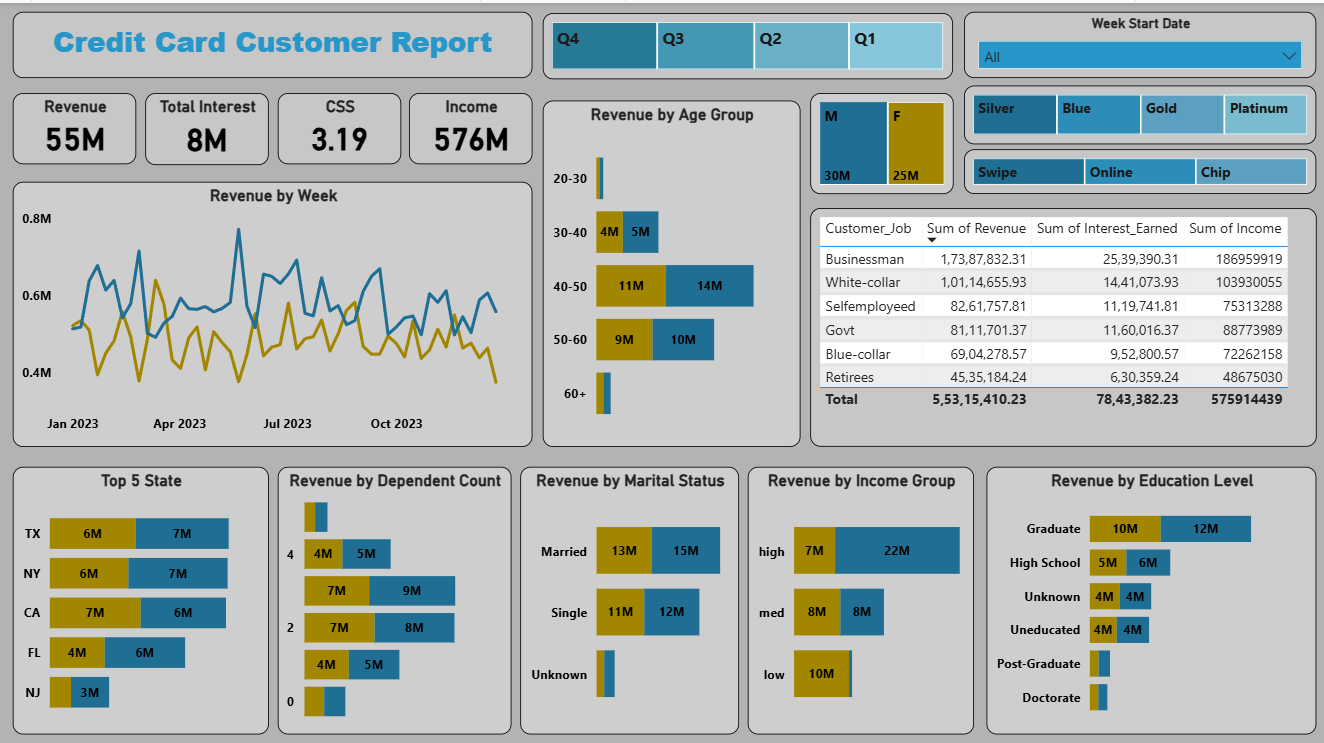

This screenshot's page, from the dashboard's own definition file:
{"tool":"powerbi","page":{"name":"CreditCard Customer","canvas":[1280,720],"ordinal":2},"visuals":[{"type":"textbox","box":[13.3,8.4,501.9,63.9],"z":0},{"type":"barChart","title":"Revenue by Income Group","fields":{"Y":["Sum(credit_card.Revenue)"],"Category":["customer.IncomeGroup"],"Series":["customer.Gender"]},"box":[722.7,447.6,218.4,258.2],"z":1000},{"type":"tableEx","fields":{"Values":["customer.Customer_Job","Sum(credit_card.Revenue)","Sum(credit_card.Interest_Earned)","Sum(customer.Income)"]},"box":[783,197.9,488.6,230.4],"z":2000},{"type":"card","title":"Revenue","fields":{"Values":["Sum(credit_card.Revenue)"]},"box":[13.3,86.9,119.4,68.8],"z":3000},{"type":"card","title":"Total Interest","fields":{"Values":["Sum(credit_card.Interest_Earned)"]},"box":[141.2,86.9,119.4,70],"z":4000},{"type":"card","title":"Income","fields":{"Values":["Sum(customer.Income)"]},"box":[395.7,86.9,119.4,68.8],"z":5000},{"type":"card","title":"CSS","fields":{"Values":["Avg(customer.Cust_Satisfaction_Score)"]},"box":[269,86.9,119.4,68.8],"z":6000},{"type":"slicer","title":"Week Start Date","fields":{"Values":["credit_card.Week_Start_Date"]},"box":[931.4,8.4,340.2,63.9],"z":7000},{"type":"treemap","fields":{"Group":["credit_card.Qtr"],"Values":["Avg(credit_card.Client_Num)"]},"box":[524.8,9.7,395.7,63.9],"z":8000},{"type":"treemap","fields":{"Values":["Avg(credit_card.Client_Num)"],"Group":["credit_card.Use Chip"]},"box":[931.4,141.2,340.2,43.4],"z":9000},{"type":"treemap","fields":{"Values":["Avg(credit_card.Client_Num)"],"Group":["credit_card.Card_Category"]},"box":[931.4,79.6,340.2,56.7],"z":10000},{"type":"lineChart","title":"Revenue by Week","fields":{"Y":["Sum(credit_card.Revenue)"],"Series":["customer.Gender"],"Category":["credit_card.Week_Start_Date.Variation.Date Hierarchy.Year","credit_card.Week_Start_Date.Variation.Date Hierarchy.Month","credit_card.Week_Start_Date.Variation.Date Hierarchy.Day"]},"box":[13.3,172.5,501.9,255.8],"z":12000},{"type":"treemap","fields":{"Group":["customer.Gender"],"Values":["Sum(credit_card.Revenue)"]},"box":[783,86.9,138.7,97.7],"z":13000},{"type":"barChart","title":"Revenue by Age Group","fields":{"Y":["Sum(credit_card.Revenue)"],"Category":["customer.AgeGroup"],"Series":["customer.Gender"]},"box":[524.8,94.1,248.5,334.2],"z":14000},{"type":"barChart","title":"Revenue by Dependent Count","fields":{"Y":["Sum(credit_card.Revenue)"],"Category":["customer.Dependent_Count"],"Series":["customer.Gender"]},"box":[269,447.6,225.6,258.2],"z":15000},{"type":"barChart","title":"Revenue by Education Level","fields":{"Y":["Sum(credit_card.Revenue)"],"Category":["customer.Education_Level"],"Series":["customer.Gender"]},"box":[953.1,447.6,318.5,258.2],"z":16000},{"type":"barChart","title":"Top 5 State","fields":{"Y":["Sum(credit_card.Revenue)"],"Category":["customer.state_cd"],"Series":["customer.Gender"]},"box":[13.3,447.6,247.3,258.2],"z":17000},{"type":"barChart","title":"Revenue by Marital Status","fields":{"Y":["Sum(credit_card.Revenue)"],"Category":["customer.Marital_Status"],"Series":["customer.Gender"]},"box":[503.1,447.6,211.1,258.2],"z":17001}]}

Visuals, with their boxes in screenshot pixels (x1, y1, x2, y2), scaled from the page's 1280x720 canvas onto the 1324x743 screenshot:
textbox: {"x1": 14, "y1": 9, "x2": 533, "y2": 75}
"Revenue by Income Group" barChart: {"x1": 748, "y1": 462, "x2": 973, "y2": 728}
tableEx - customer.Customer_Job x Sum(credit_card.Revenue): {"x1": 810, "y1": 204, "x2": 1315, "y2": 442}
"Revenue" card: {"x1": 14, "y1": 90, "x2": 137, "y2": 161}
"Total Interest" card: {"x1": 146, "y1": 90, "x2": 270, "y2": 162}
"Income" card: {"x1": 409, "y1": 90, "x2": 533, "y2": 161}
"CSS" card: {"x1": 278, "y1": 90, "x2": 402, "y2": 161}
"Week Start Date" slicer: {"x1": 963, "y1": 9, "x2": 1315, "y2": 75}
treemap - credit_card.Qtr x Avg(credit_card.Client_Num): {"x1": 543, "y1": 10, "x2": 952, "y2": 76}
treemap - Avg(credit_card.Client_Num) x credit_card.Use Chip: {"x1": 963, "y1": 146, "x2": 1315, "y2": 190}
treemap - Avg(credit_card.Client_Num) x credit_card.Card_Category: {"x1": 963, "y1": 82, "x2": 1315, "y2": 141}
"Revenue by Week" lineChart: {"x1": 14, "y1": 178, "x2": 533, "y2": 442}
treemap - customer.Gender x Sum(credit_card.Revenue): {"x1": 810, "y1": 90, "x2": 953, "y2": 190}
"Revenue by Age Group" barChart: {"x1": 543, "y1": 97, "x2": 800, "y2": 442}
"Revenue by Dependent Count" barChart: {"x1": 278, "y1": 462, "x2": 512, "y2": 728}
"Revenue by Education Level" barChart: {"x1": 986, "y1": 462, "x2": 1315, "y2": 728}
"Top 5 State" barChart: {"x1": 14, "y1": 462, "x2": 270, "y2": 728}
"Revenue by Marital Status" barChart: {"x1": 520, "y1": 462, "x2": 739, "y2": 728}
